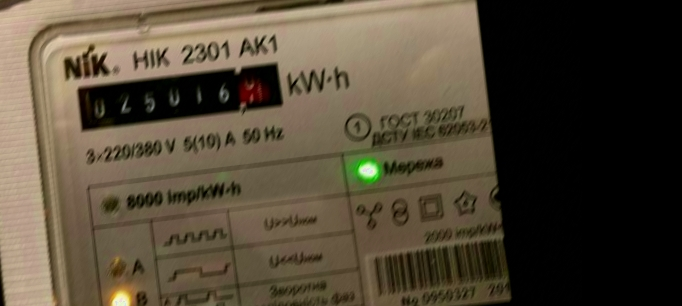0: (166, 82, 182, 107), (91, 95, 106, 118), (241, 69, 255, 90)
1: (191, 79, 204, 105), (245, 92, 255, 104)
2: (116, 89, 132, 113)
5: (142, 89, 155, 112)
6: (215, 79, 231, 105)
screen: (65, 52, 293, 138)
